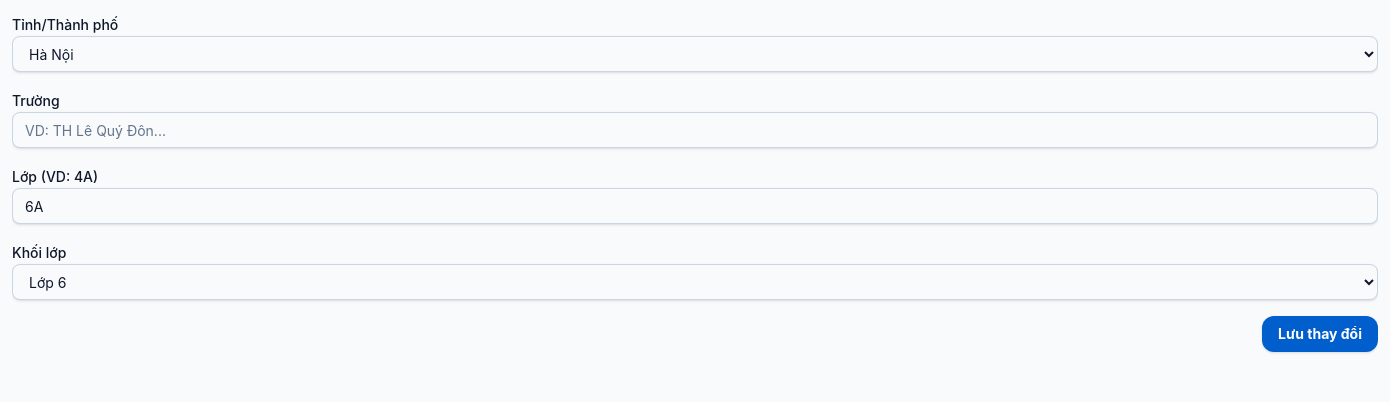
Scenario: ProfileEditForm › lưu lỗi thì hiện thông báo và KHÔNG đóng form
Click the button "Lưu thay đổi" at (1320, 334), box 1262,316 -> 1378,352
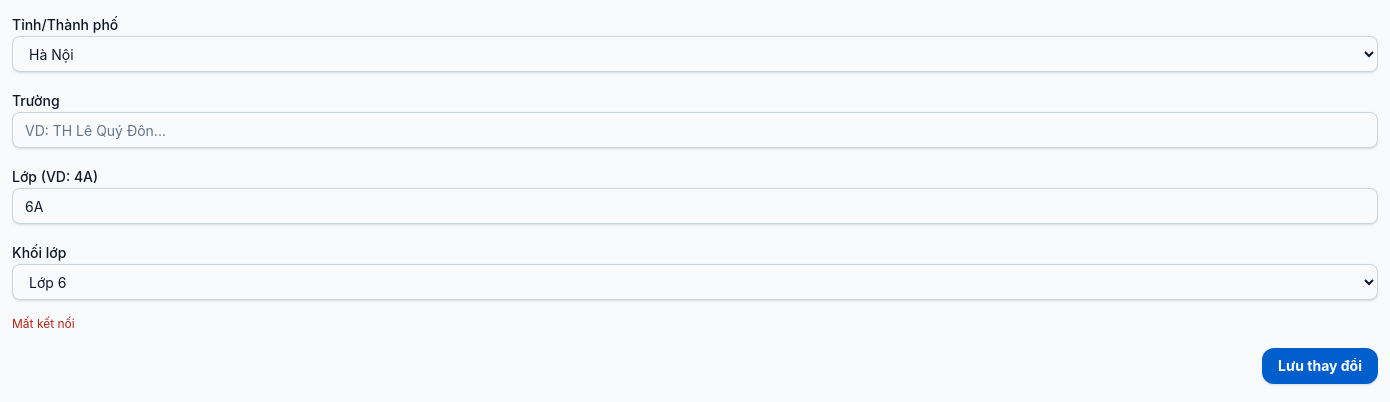
Expected: the text "Mất kết nối" is shown, 12,316 -> 75,331
